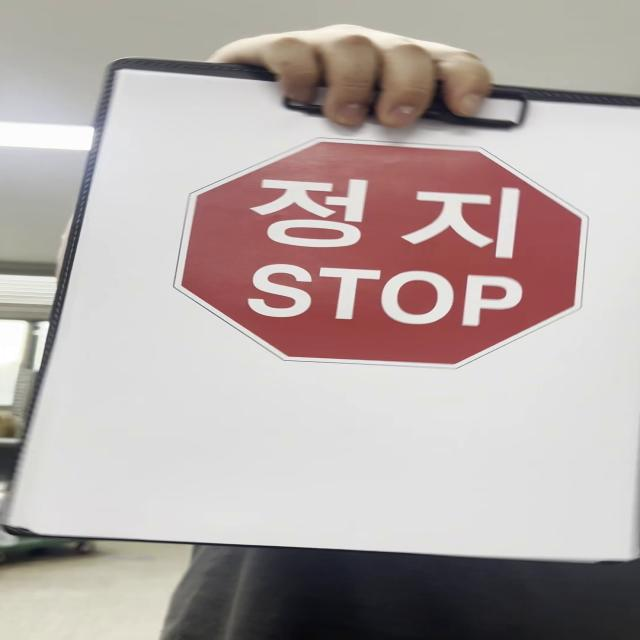stop: (172, 138, 592, 374)
